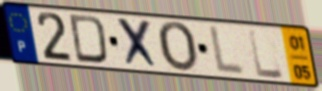2: (36, 10, 75, 64)
D: (68, 13, 111, 66)
L: (208, 24, 248, 78), (246, 27, 286, 80)
O: (155, 20, 200, 75)
X: (115, 16, 162, 72)
